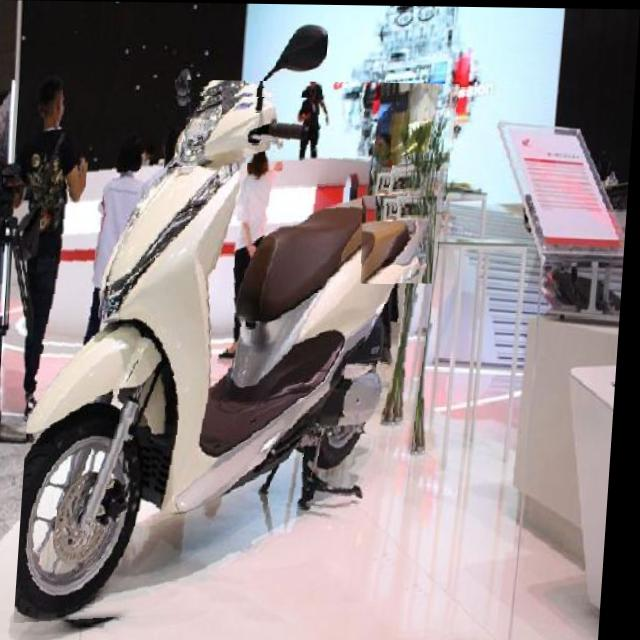All: (22, 78, 463, 630)
Head: (166, 95, 315, 169)
Tail: (360, 194, 440, 283)
